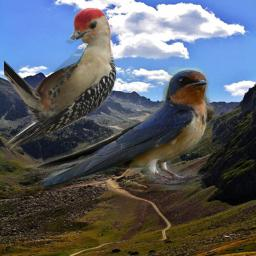Swallow: (5, 67, 218, 190)
Woodpecker: (4, 7, 116, 155)
